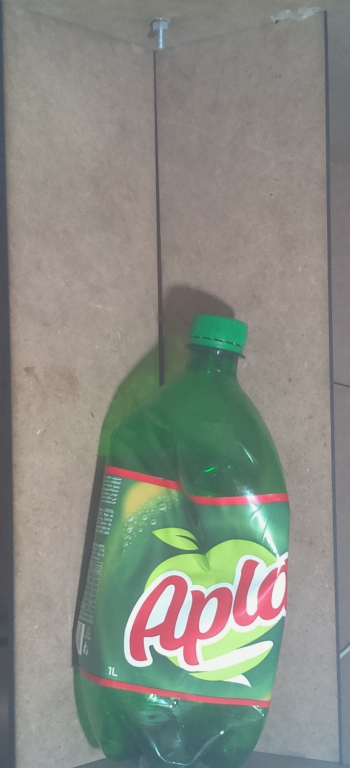Bouteille_1L: (67, 307, 302, 768)
